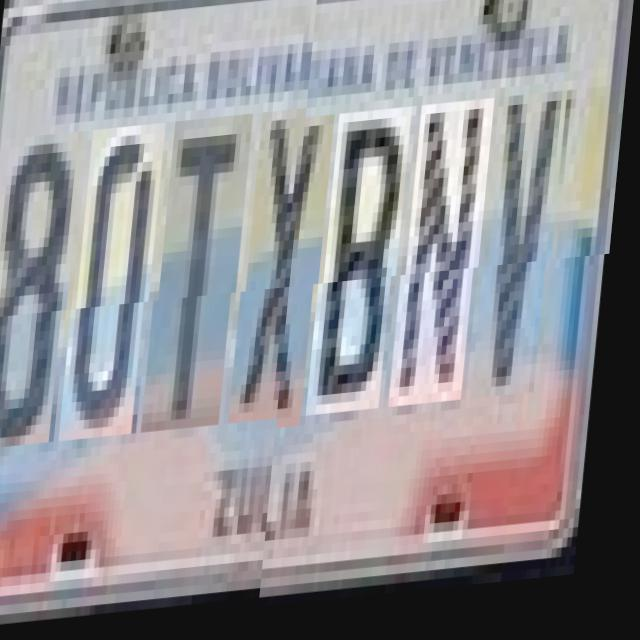0: (72, 136, 168, 452)
8: (0, 143, 85, 460)
B: (320, 115, 415, 422)
N: (402, 109, 497, 416)
T: (154, 129, 256, 446)
V: (484, 93, 572, 410)
X: (242, 122, 338, 438)
